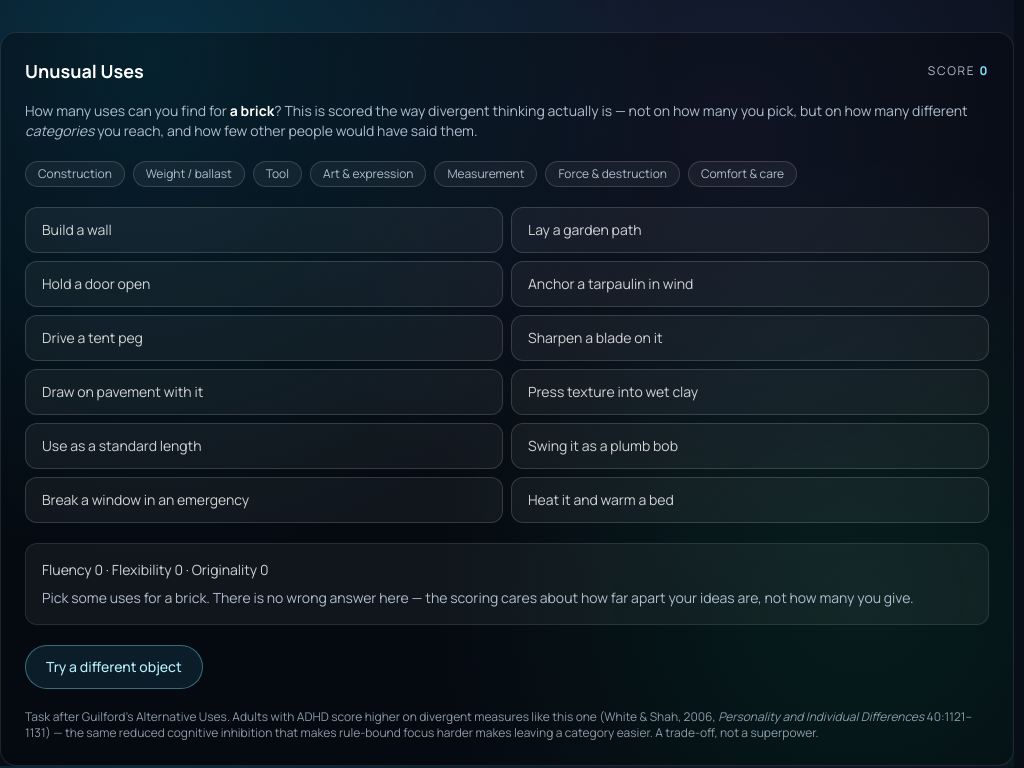
Scenario: DivergentThinkingGame › clicking a selected use again deselects it
Click the button "Build a wall": (77, 230) [25, 207, 503, 253]
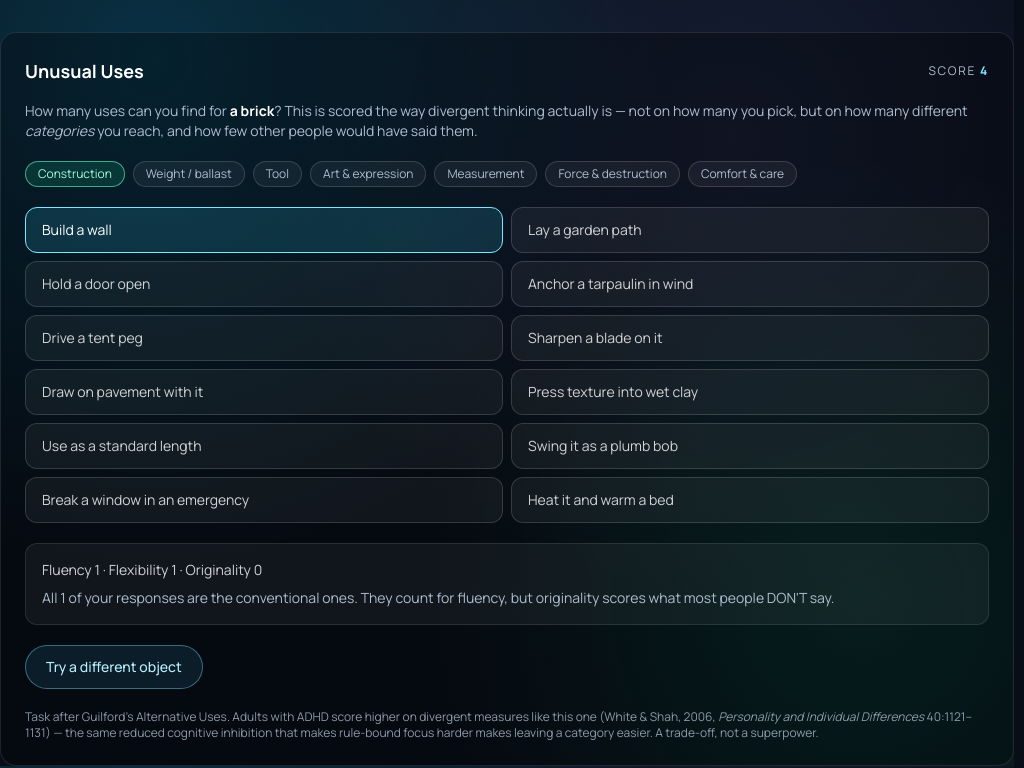
Click the button "Build a wall": (77, 230) [25, 207, 503, 253]
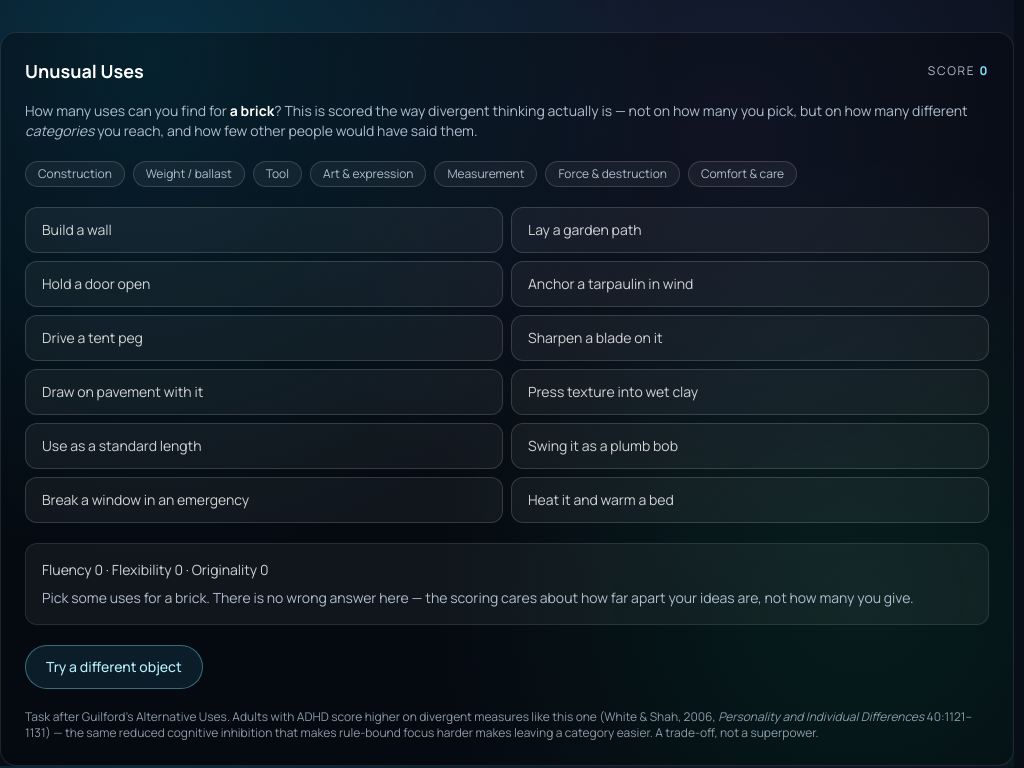
Now the text with test id "dt-total" reads "0", box [979, 62, 989, 79]
